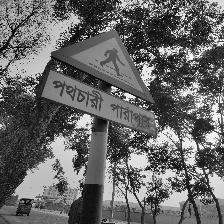Pedestrian-crossing: (42, 25, 159, 139)
